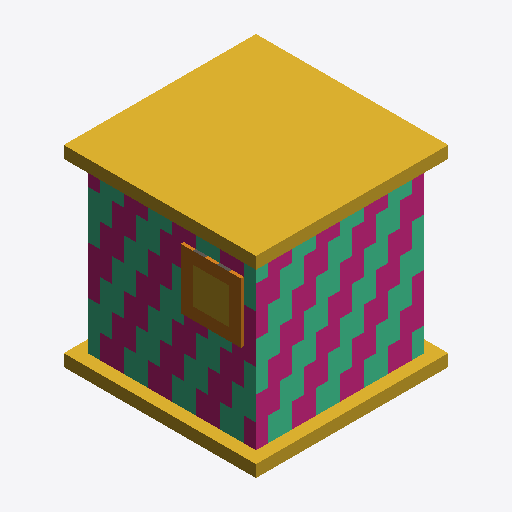
Isometric view (azimuth 45°, elevation 35.3°) of a Minecraft model made of 5 cuboids, textured from the same repository.
Parts seen in each view (by area): element 3, element 2, element 1, element 5.
Boxes of the visible parts, x1,y1,x2,y2 form: element 3: [88, 173, 423, 449]; element 2: [64, 34, 447, 269]; element 1: [64, 339, 447, 477]; element 5: [181, 242, 243, 347].
Bounding box in the file's own units: 16 × 16 × 16.